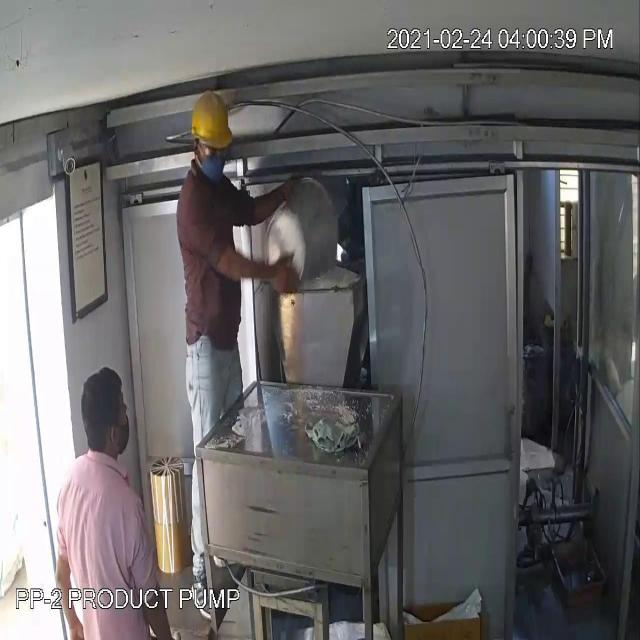hat: (189, 92, 235, 148)
